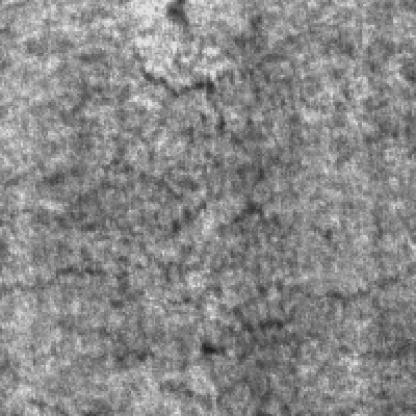crazing: (127, 41, 270, 235), (233, 260, 416, 364), (4, 242, 160, 358)
